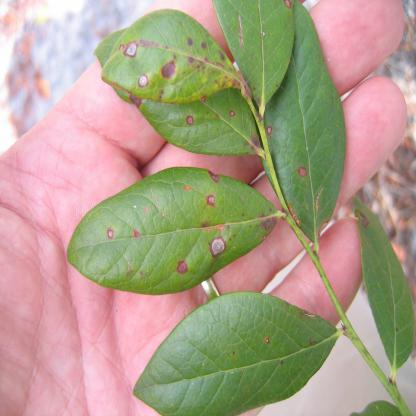Blueberry leaf: (51, 162, 282, 300), (120, 293, 354, 414), (258, 0, 348, 269), (101, 6, 250, 125), (345, 182, 416, 373)
